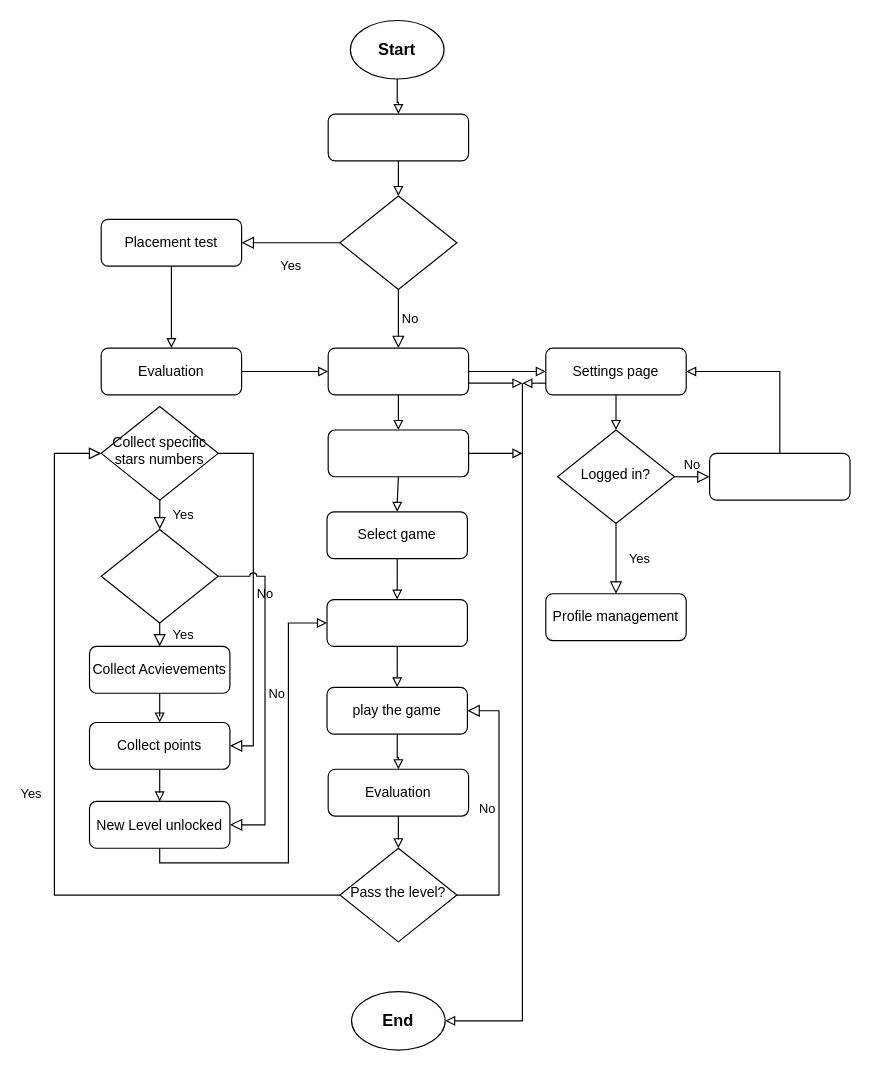
Some shapes in this 870 by 1071 pixel diagram are drawn without their labels. Here are the shapes that lost their labels. From the top down, the box of each, then its label:
(327, 113, 469, 161): Open the app
(339, 195, 457, 290): First Time?
(327, 347, 469, 395): Home page
(327, 429, 469, 477): Game page
(708, 452, 850, 500): Login page
(100, 528, 218, 623): Logged in ?
(326, 598, 467, 646): Select level
